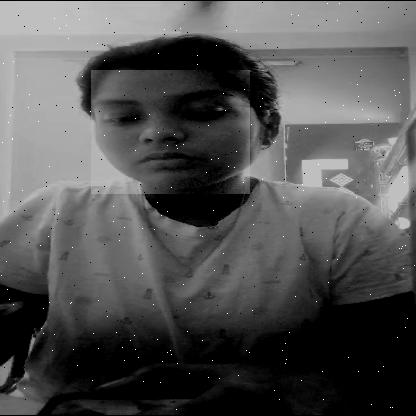Normal: (91, 70, 250, 194)
